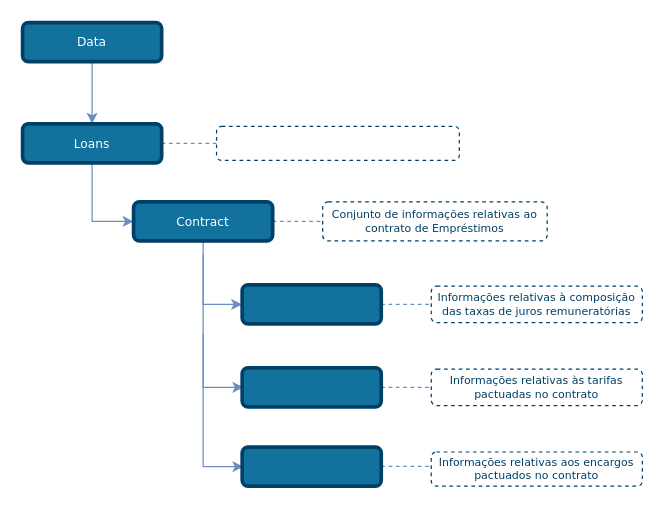
The diagram is 664 pixels wide and 509 high, and some of its shapes have lost their labels. Each missing label, with the box of its shape:
Conjunto das informações de Operações de Crédito de Empréstimos: (215, 125, 459, 160)
Contracted Fees: (240, 365, 382, 408)
Contracted Finance Charges: (240, 445, 382, 487)
Interest Rates: (240, 282, 382, 325)
